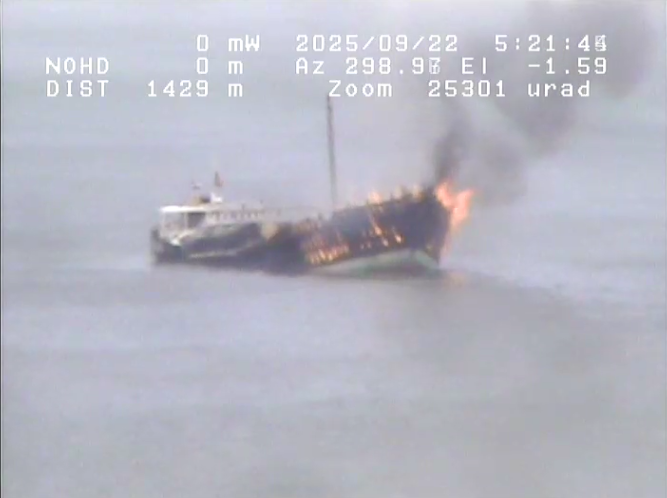FIRE_ONBOARD: (88, 69, 546, 371)
FISHING_VESSEL: (113, 117, 485, 307)
